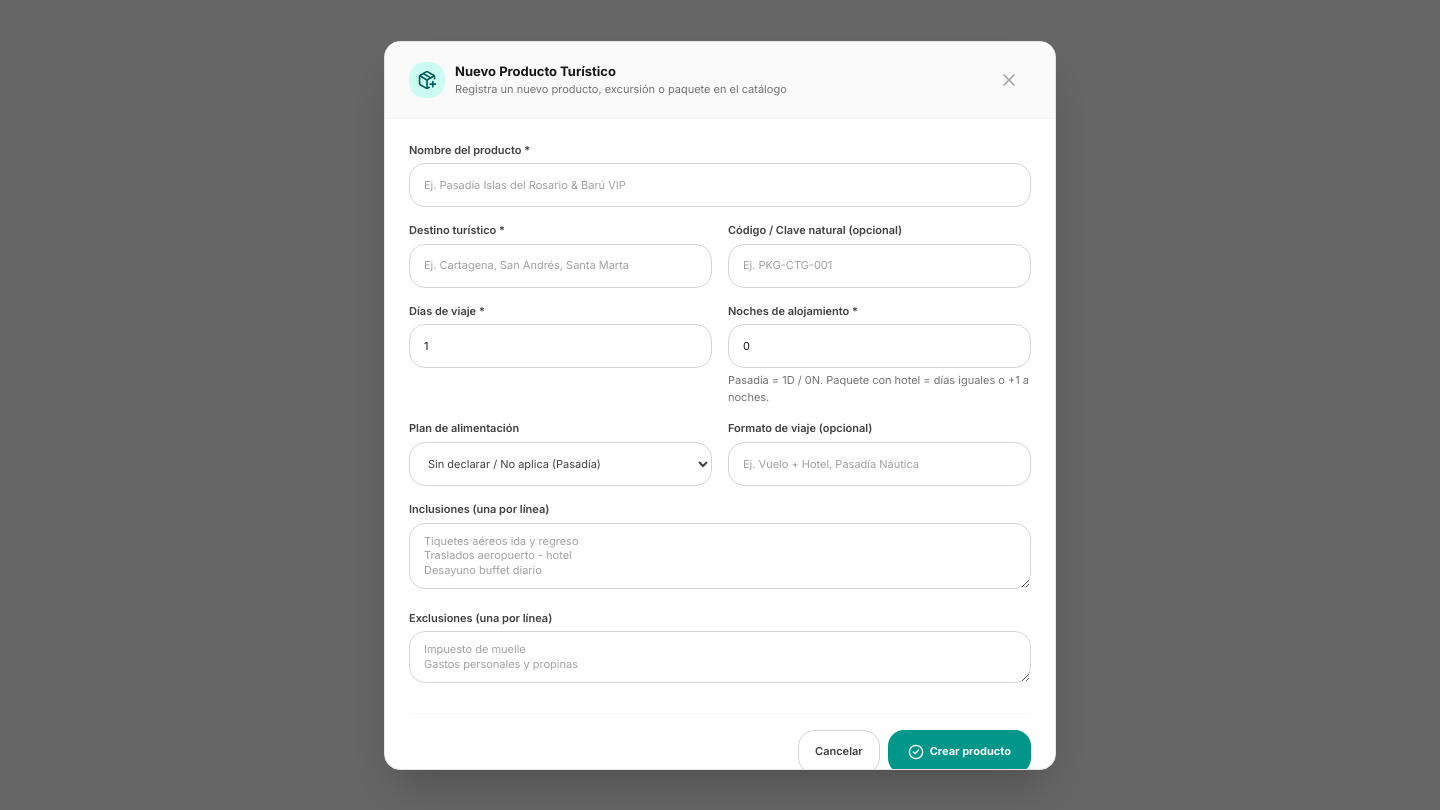
Test: ModalFormularioPaquete (T-031) › muestra errores de validación en español al intentar enviar con campos inválidos
Step 1. Click the button with test id "boton-guardar-paquete" → (959, 752), box [888,730,1031,774]
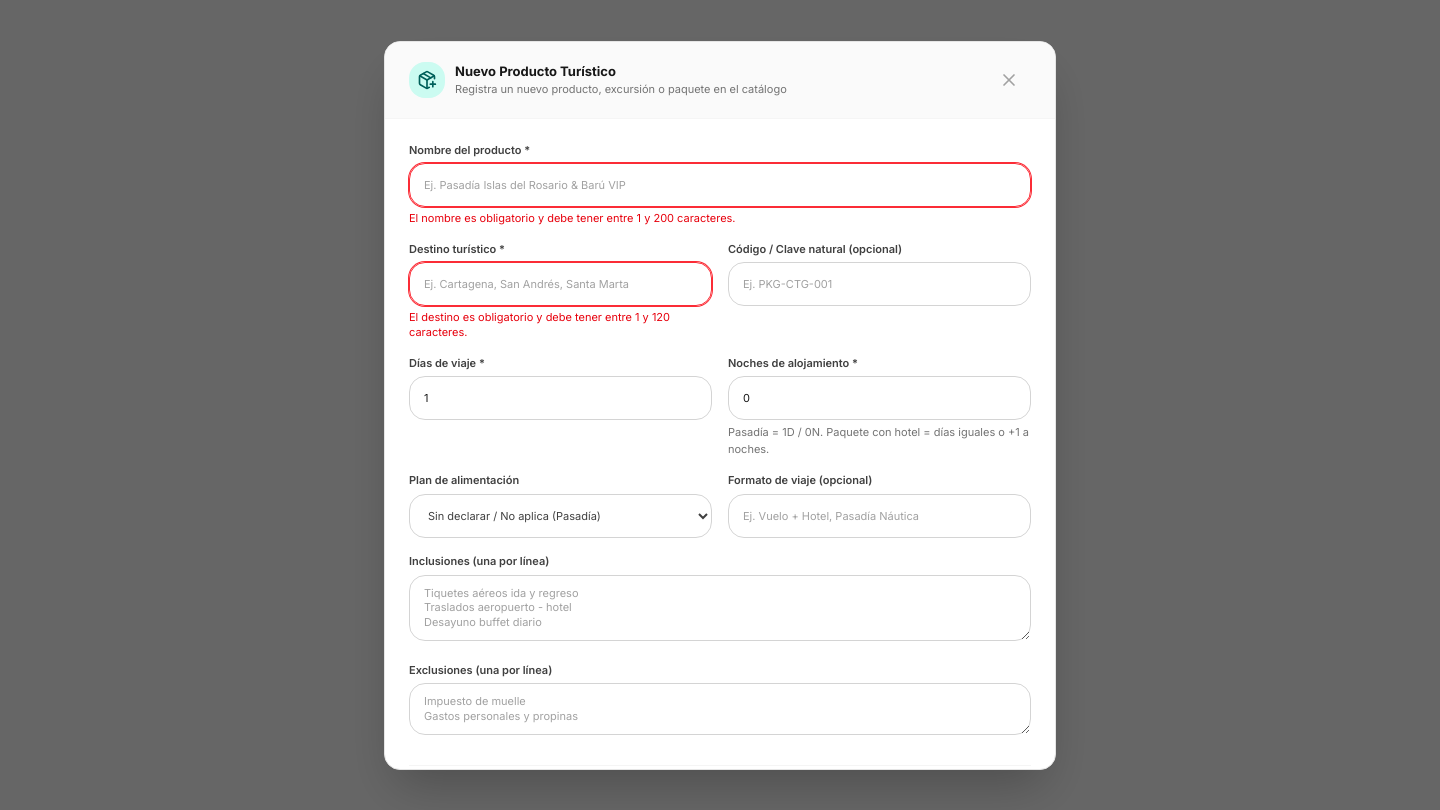
Expected: the text with test id "error-campo-nombre" is shown, [409,211,736,225]
